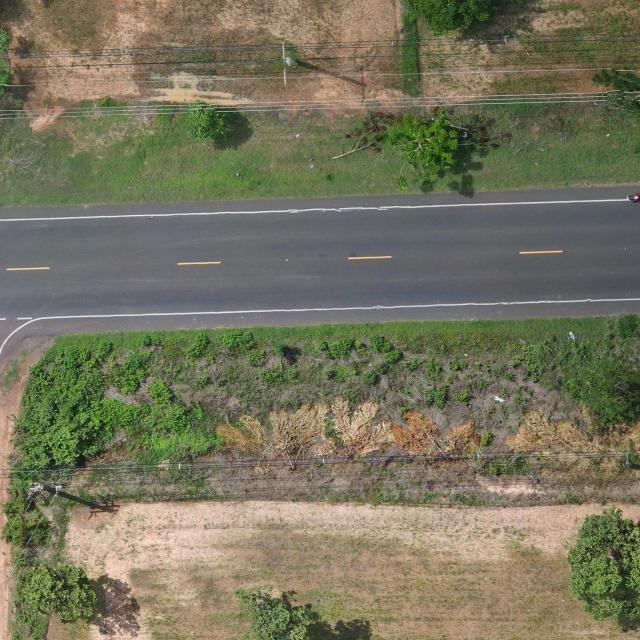Tree: (565, 504, 640, 622), (386, 106, 460, 192), (562, 356, 640, 434), (17, 565, 100, 622), (233, 585, 315, 640), (407, 0, 495, 38), (186, 100, 226, 138)
